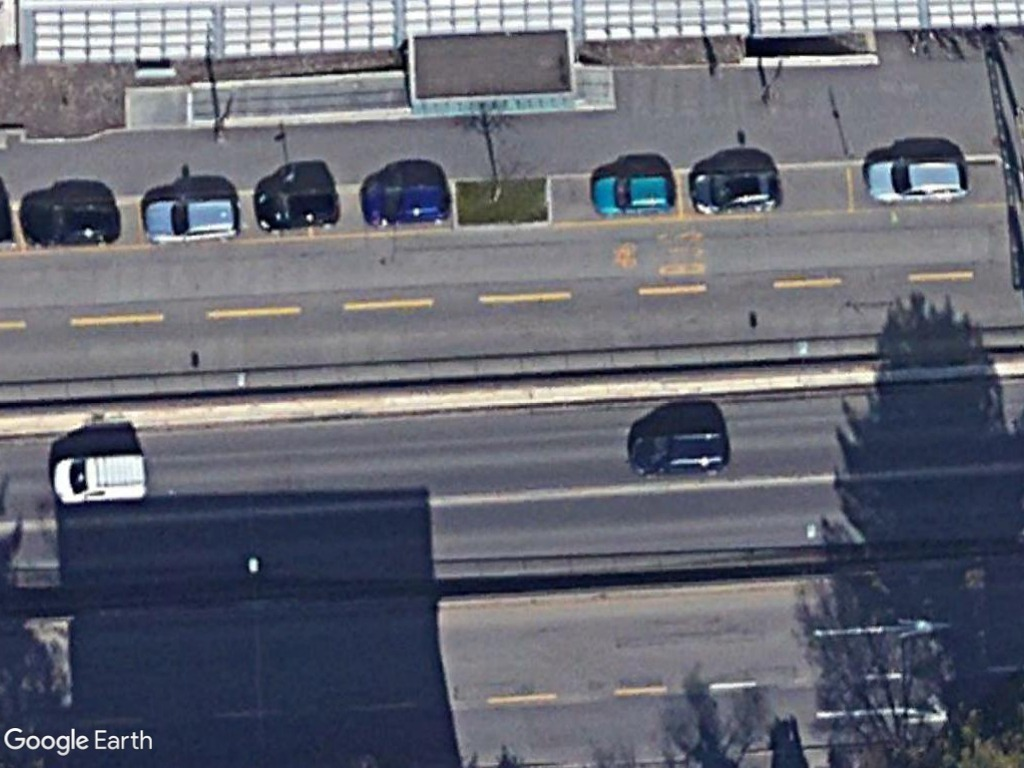car: (618, 428, 735, 481), (139, 189, 246, 244), (864, 154, 974, 207), (354, 177, 454, 231), (587, 169, 679, 217)
van: (49, 447, 154, 506)
